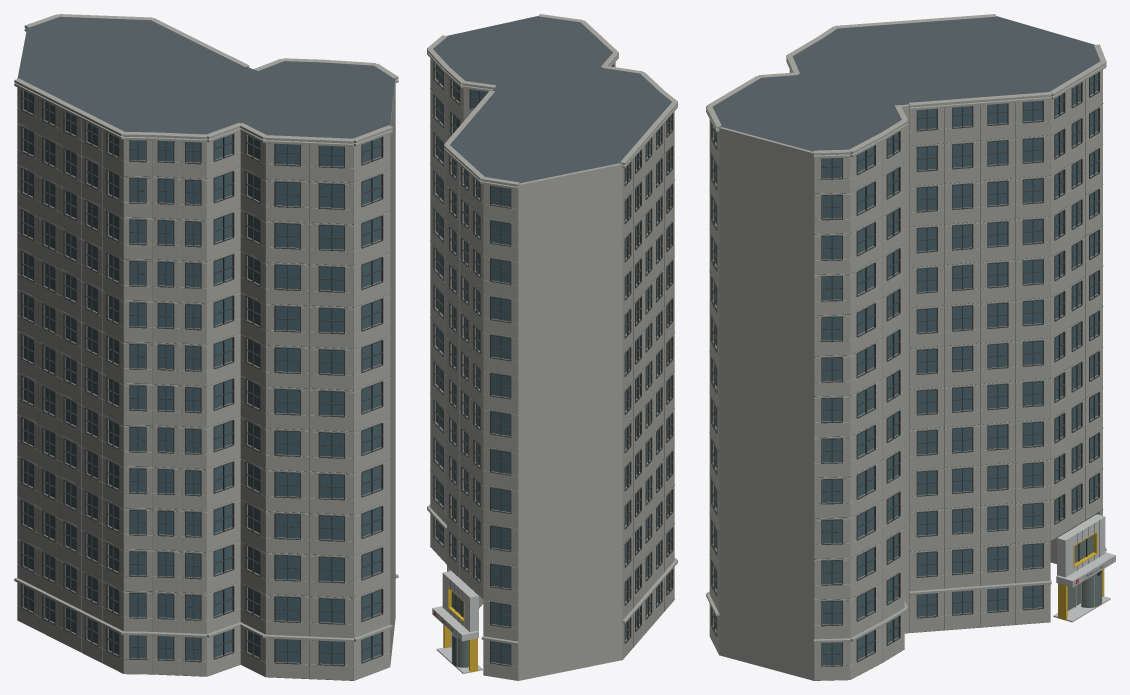
The model's file is pel-exterior-df4e1625434b.glb.
3 views of the same model, side by side, from view 1: azimuth 30°, elevation 25°; view 2: azimuth 150°, elevation 25°; view 3: azimuth 270°, elevation 25° (orthographic). The views are drawn at different scales.
Parts seen in each view (by area): view 1: PEL.001; view 2: PEL.001; view 3: PEL.001.
Boxes of the visible parts, bbox=[...] form: PEL.001: bbox=[14, 14, 398, 680]; PEL.001: bbox=[427, 14, 677, 680]; PEL.001: bbox=[706, 14, 1115, 680].
Size of the model in its own units: 24.89 by 44.15 by 30.97.
